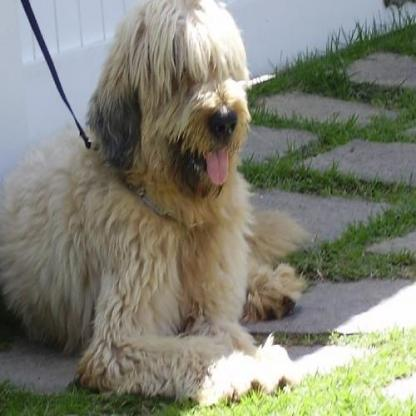briard: (0, 0, 314, 407)
